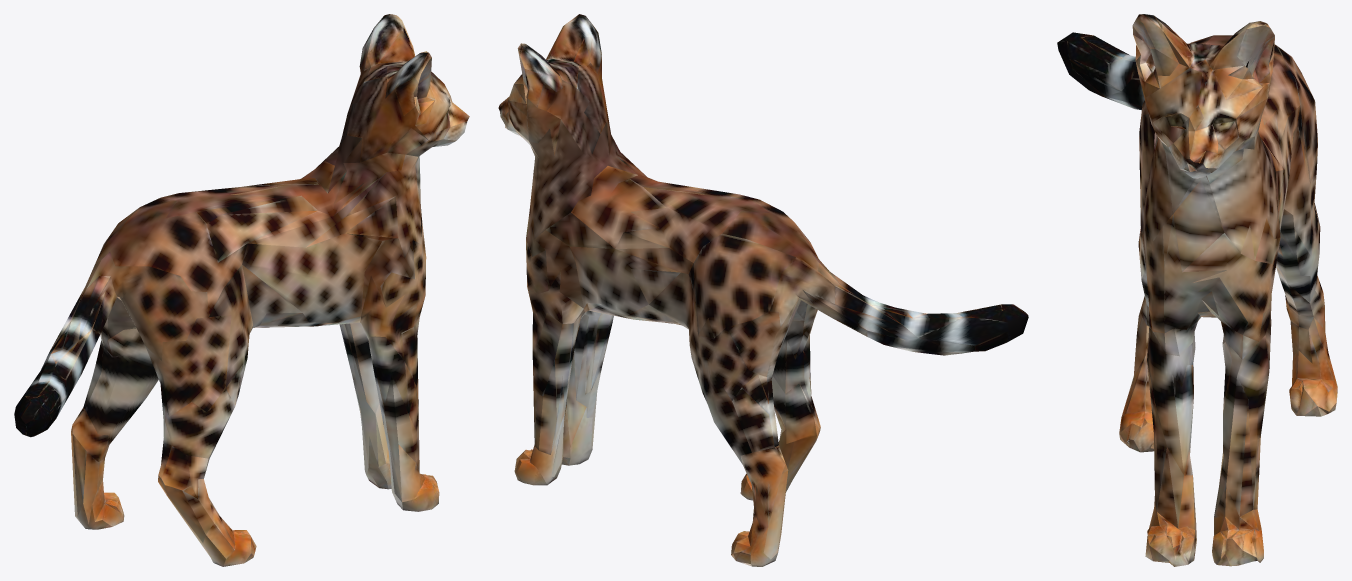
File: SUSHITUNA-lo.glb
The picture shows the model from 3 angles, left to right: view 1: azimuth 30°, elevation 25°; view 2: azimuth 150°, elevation 25°; view 3: azimuth 270°, elevation 25°; orthographic projection. The views are drawn at different scales.
Parts seen in each view (by area): view 1: output_unwrapped; view 2: output_unwrapped; view 3: output_unwrapped.
Part boxes in pixels (x1,y1,x2,y2): output_unwrapped: (14,14,469,566); output_unwrapped: (498,14,1028,566); output_unwrapped: (1057,14,1337,566).
Size of the model in its own units: 1.14 by 0.9988 by 0.4695.
1 material, 1 textured.
